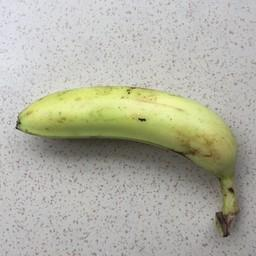Good_banana: (13, 82, 247, 181)
